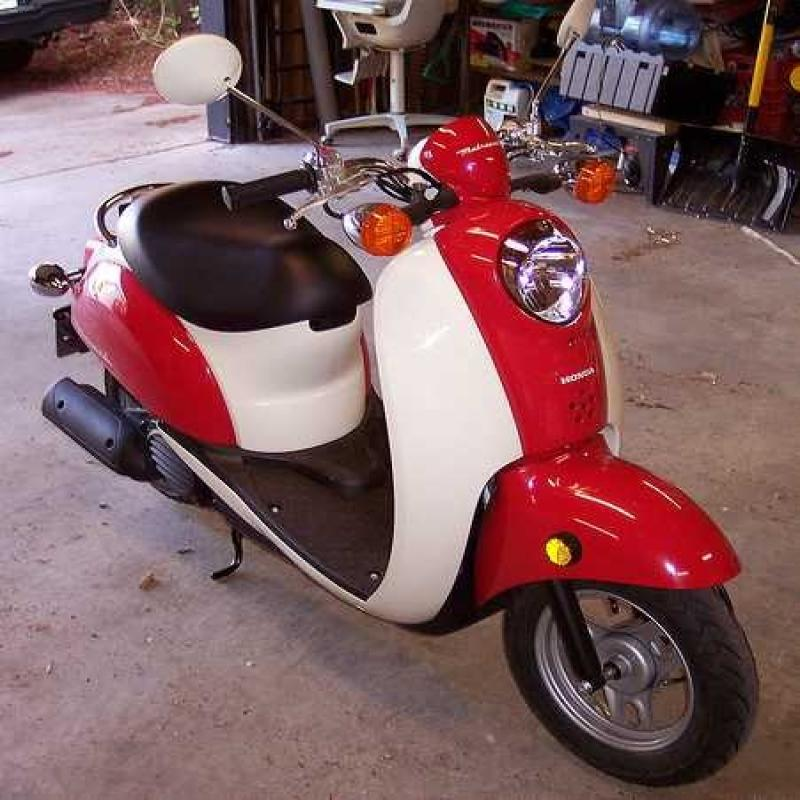bike: (38, 29, 762, 781)
